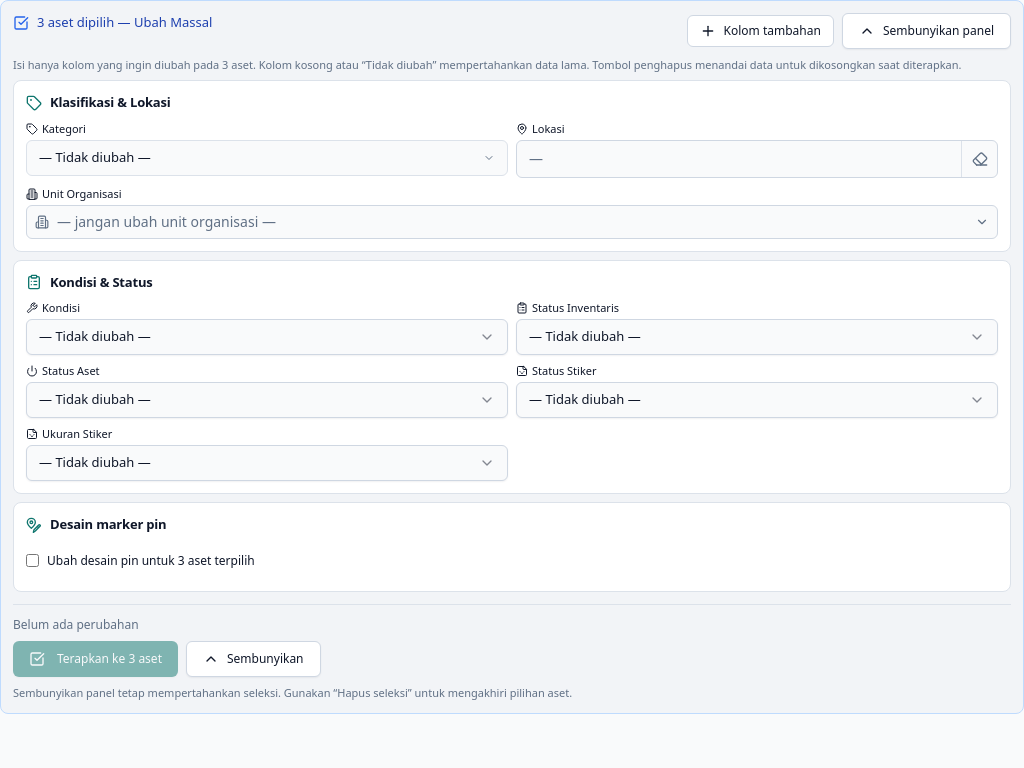
Test case: daftarnya berjenjang dengan lencana, tanpa akhiran (E1)
Click the button with test id "batch-unit-pemicu": (166, 221) [26,205,998,239]
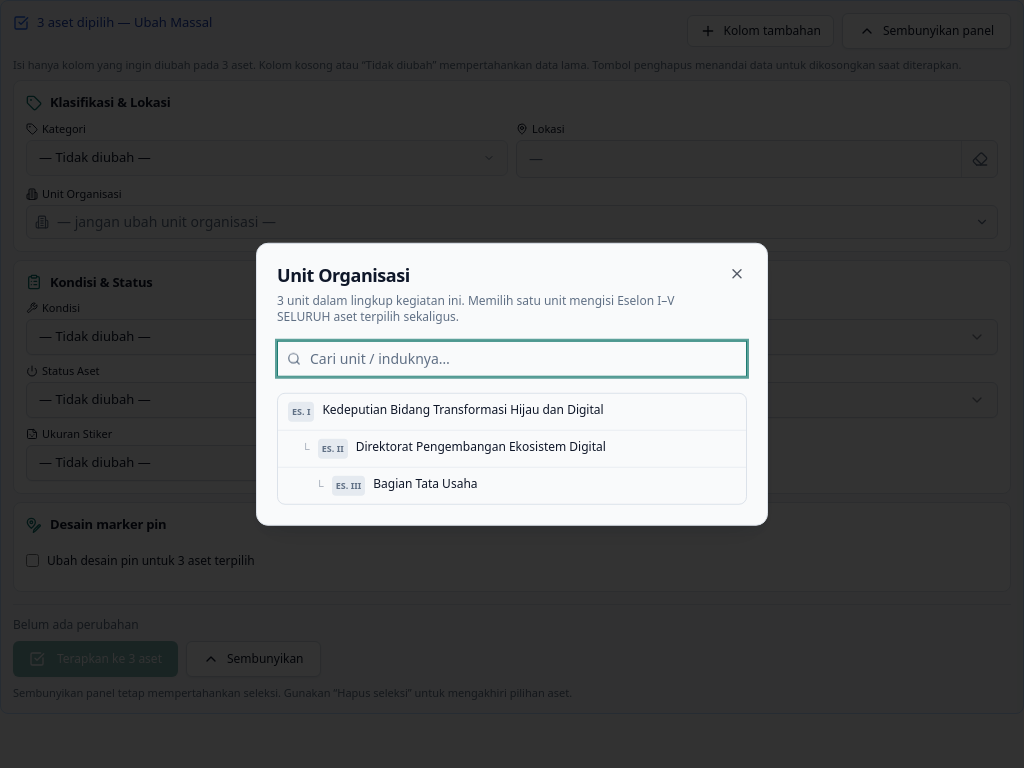
Expected: the button with test id "batch-unit-opsi-k2" shows "Es. I", [278,393,746,429]
Expected: the button with test id "batch-unit-opsi-b1" shows "Es. III", [278,466,746,503]
